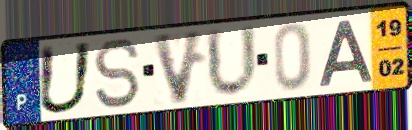0: (272, 20, 314, 93)
A: (316, 18, 375, 88)
S: (91, 37, 142, 111)
U: (34, 40, 96, 117), (203, 22, 261, 101)
V: (150, 27, 208, 108)
